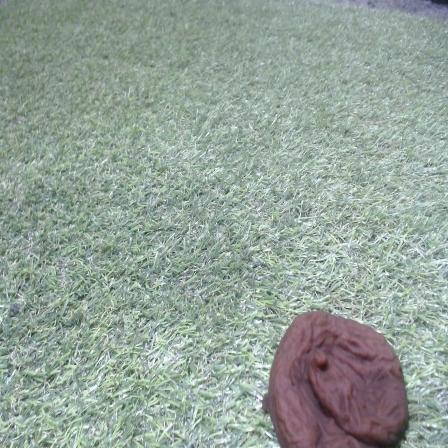dog-poop: (268, 301, 406, 448)
